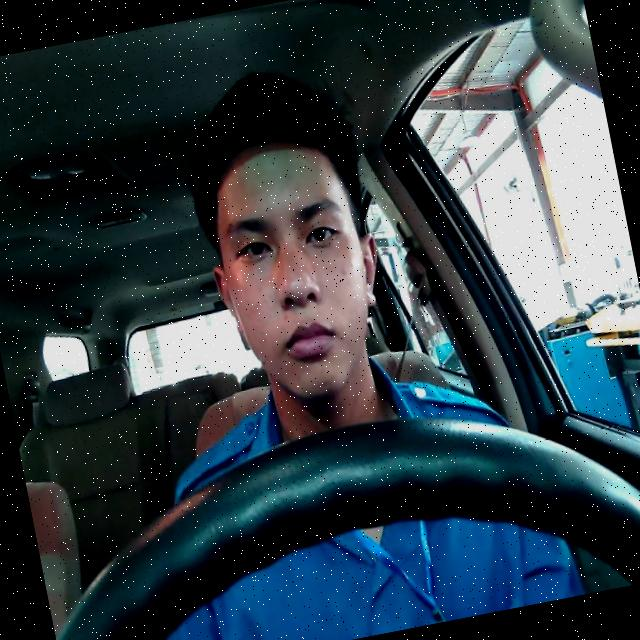focused: (186, 119, 402, 414)
